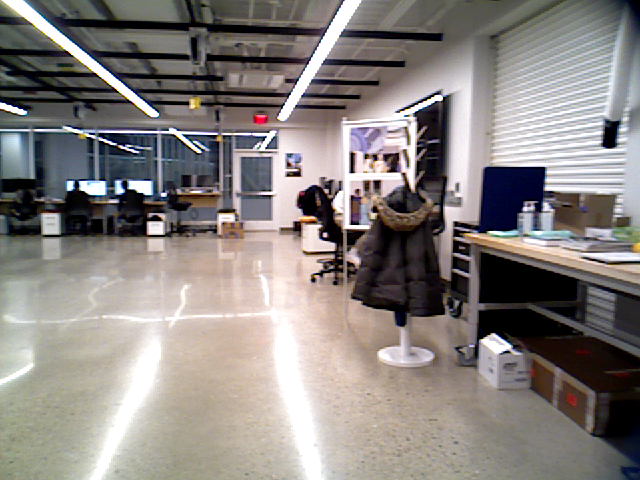painting3: (283, 152, 306, 179)
